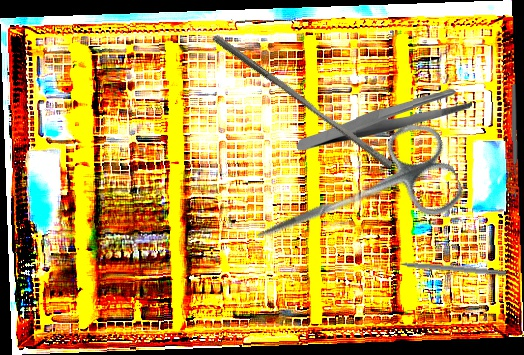Dressing Forceps: (296, 88, 473, 152)
Hook Surgical: (387, 258, 507, 277)
Iris Scissors: (240, 115, 469, 284)
Pusher: (206, 32, 399, 171)
Surgical Spoon: (510, 83, 519, 199)
